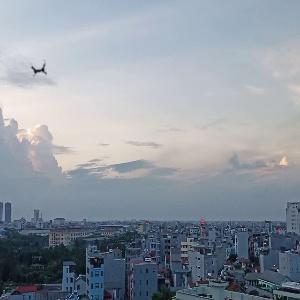drone: (20, 52, 59, 91)
